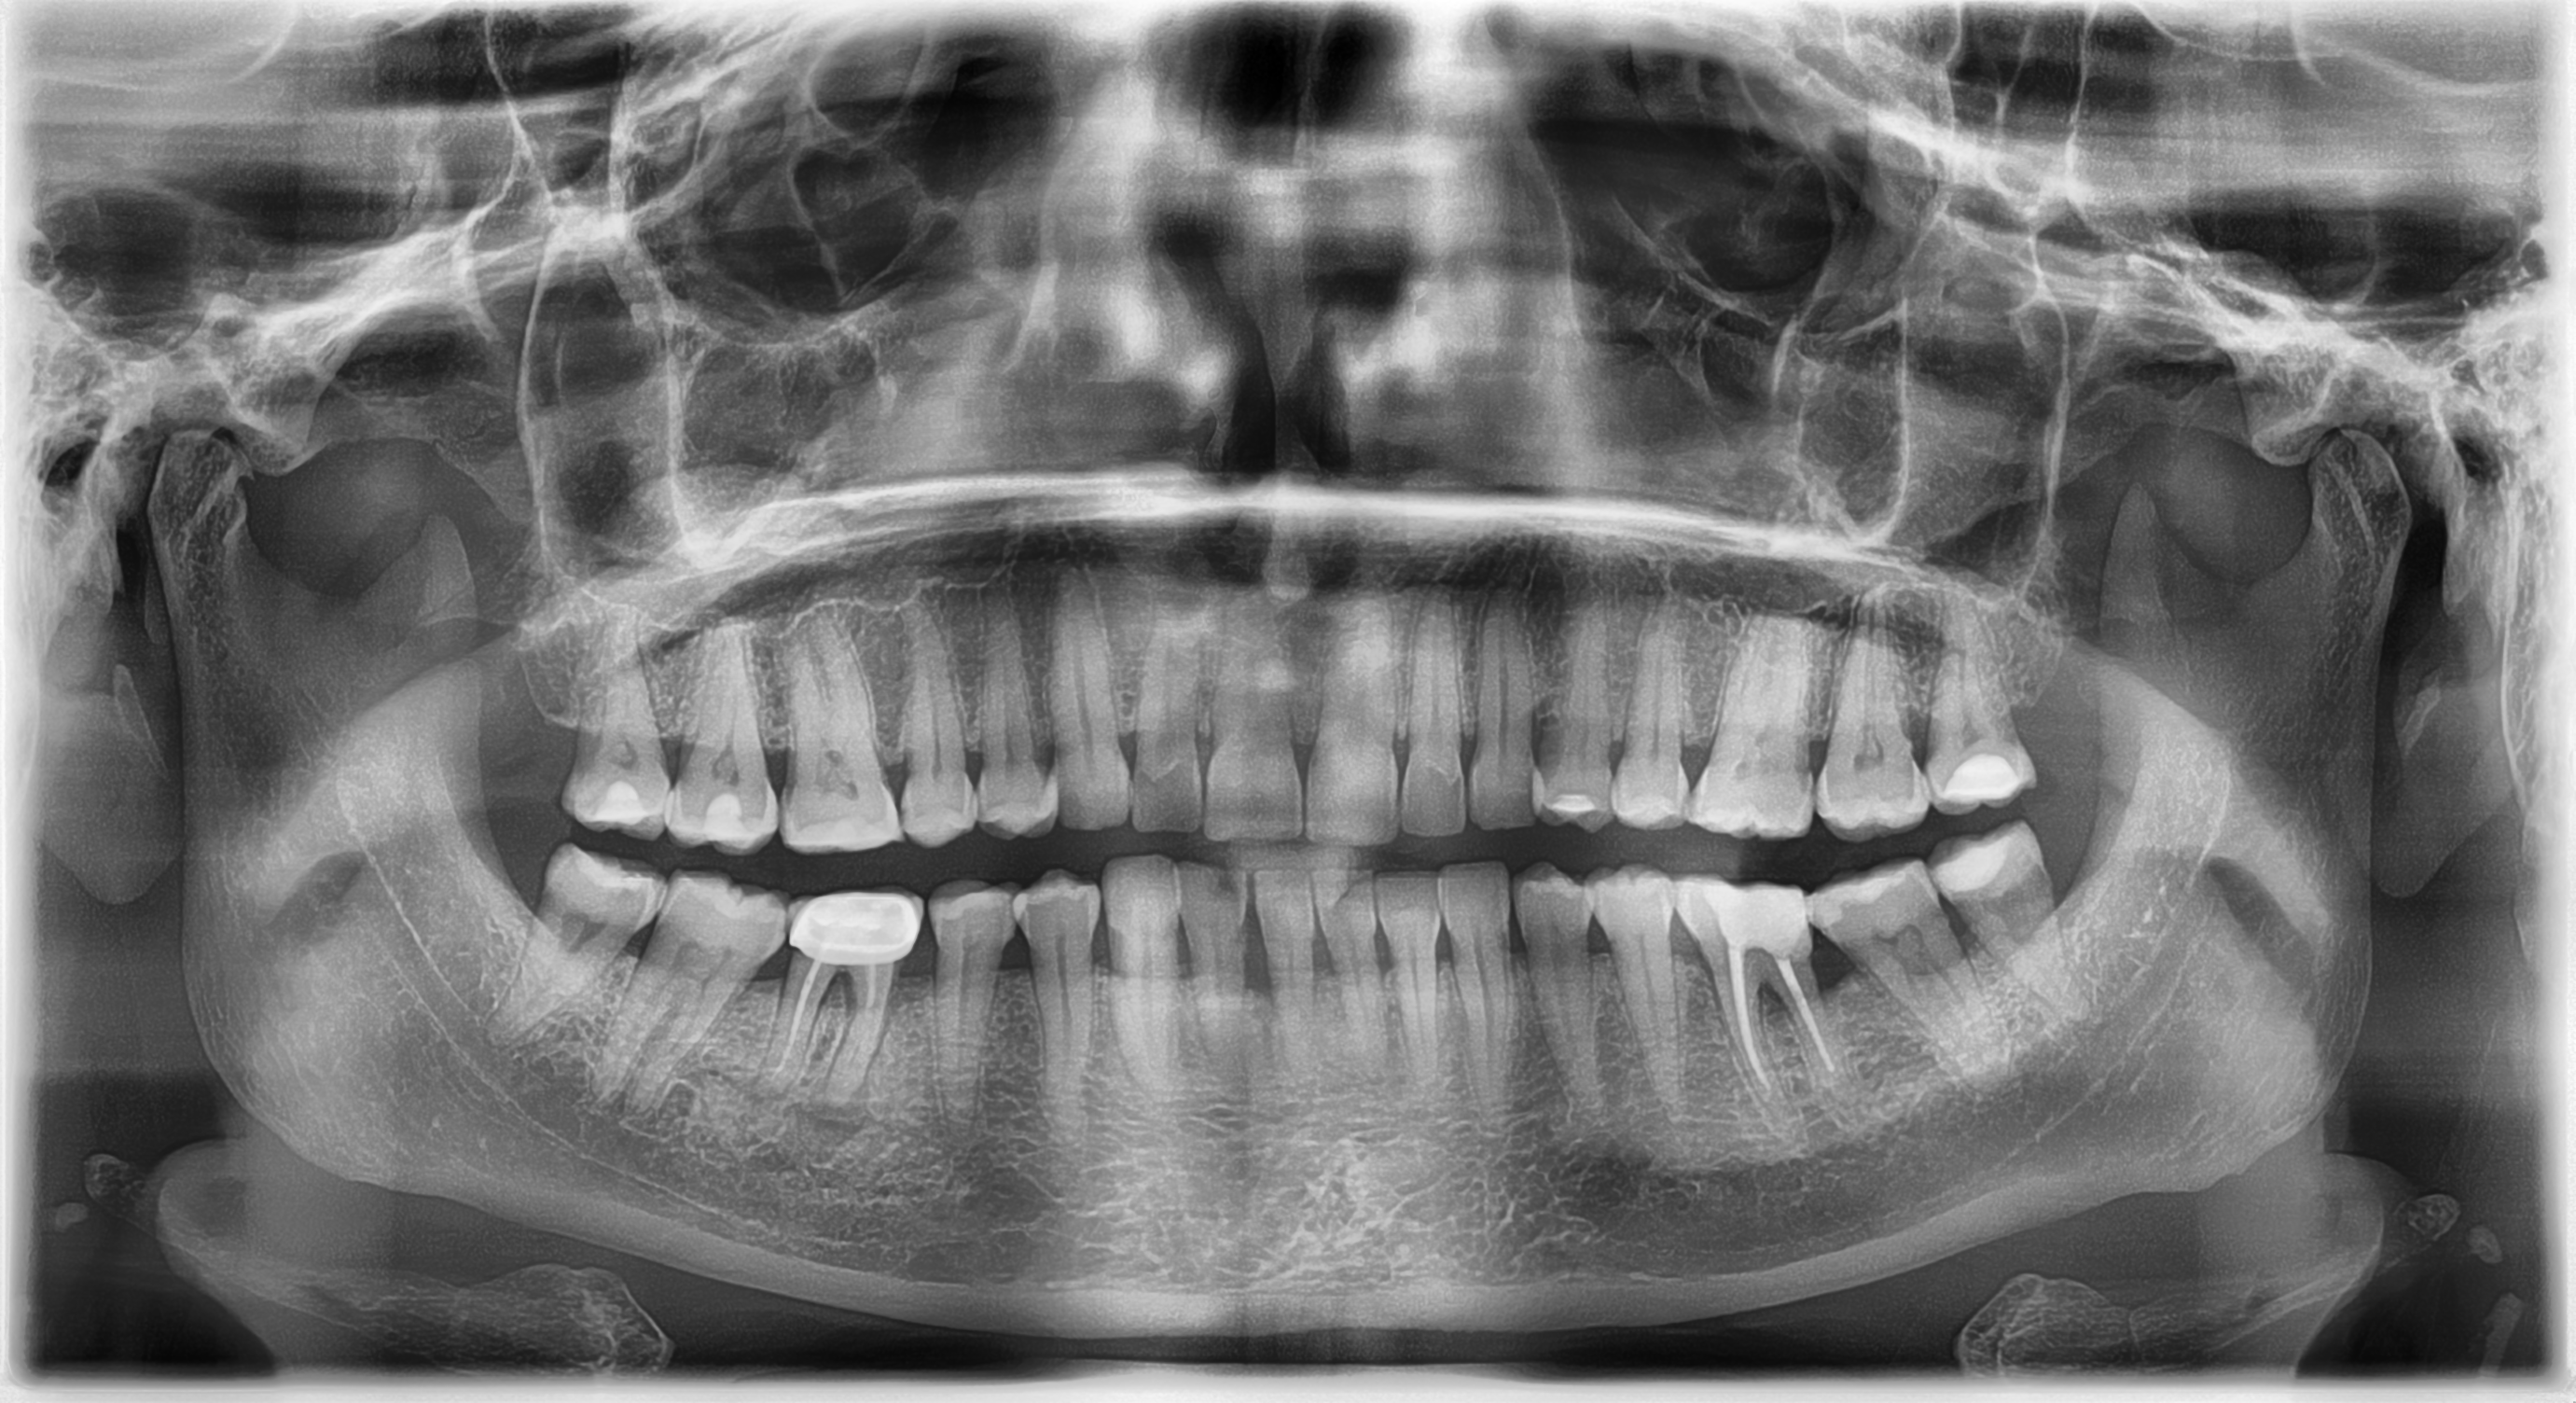cordal: (477, 840, 701, 1094), (1889, 793, 2113, 1047), (1870, 586, 2094, 838), (496, 612, 718, 866)
tratamiento_conducto: (760, 871, 934, 1142), (1656, 855, 1830, 1127)
